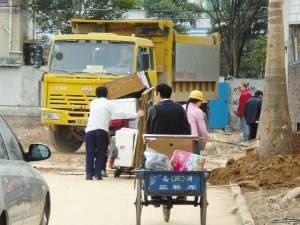none: (151, 82, 173, 104), (93, 83, 109, 101), (237, 82, 248, 93), (253, 88, 264, 99)
yellow: (187, 88, 204, 108)
